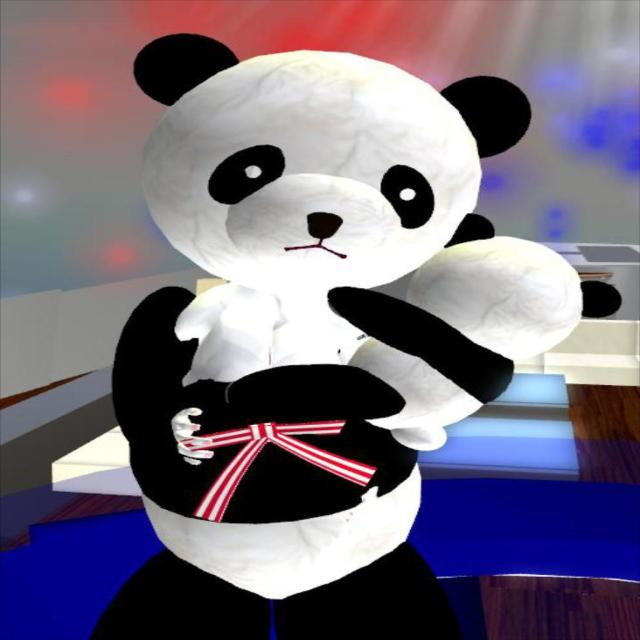panda: (87, 29, 538, 639), (344, 207, 625, 451)
